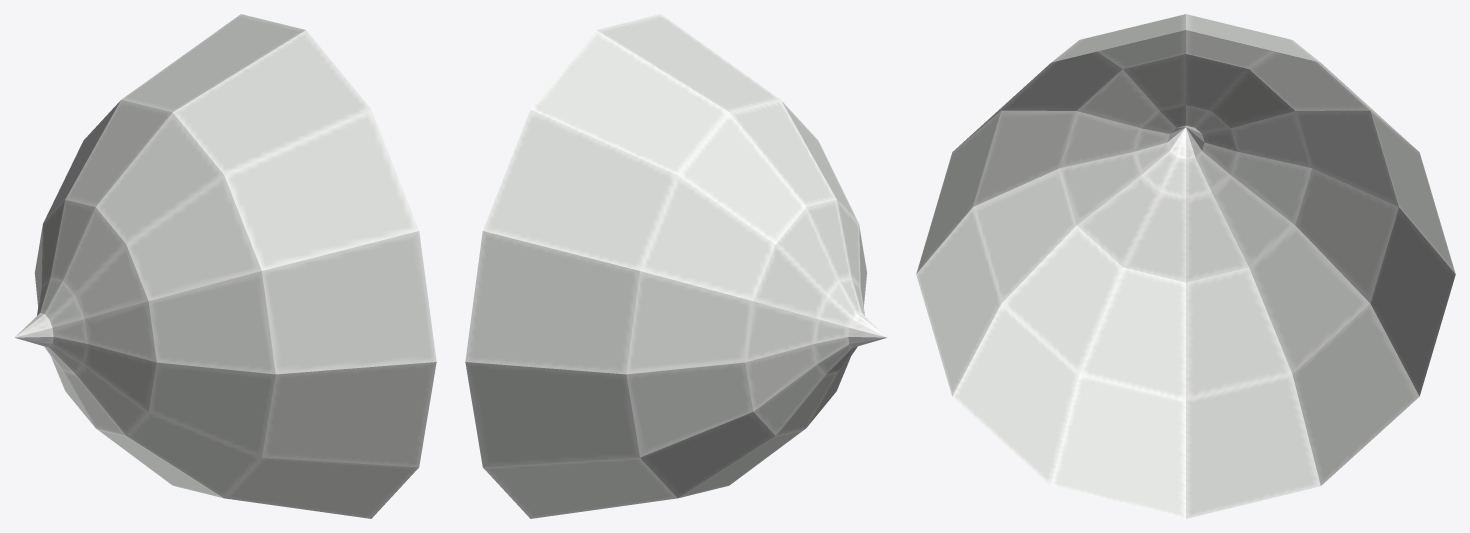
The model's file is ami_01.fbx.
3 renders of one model, left to right at view 1: azimuth 30°, elevation 25°; view 2: azimuth 150°, elevation 25°; view 3: azimuth 270°, elevation 25°, orthographic. The views are drawn at different scales.
Parts seen in each view (by area): view 1: pCylinder3; view 2: pCylinder3; view 3: pCylinder3.
Boxes of the visible parts, <box> form: pCylinder3: <box>14,14,436,518</box>; pCylinder3: <box>465,14,887,518</box>; pCylinder3: <box>916,14,1455,518</box>.
Size of the model in its own units: 3.96 by 6.13 by 6.13.
